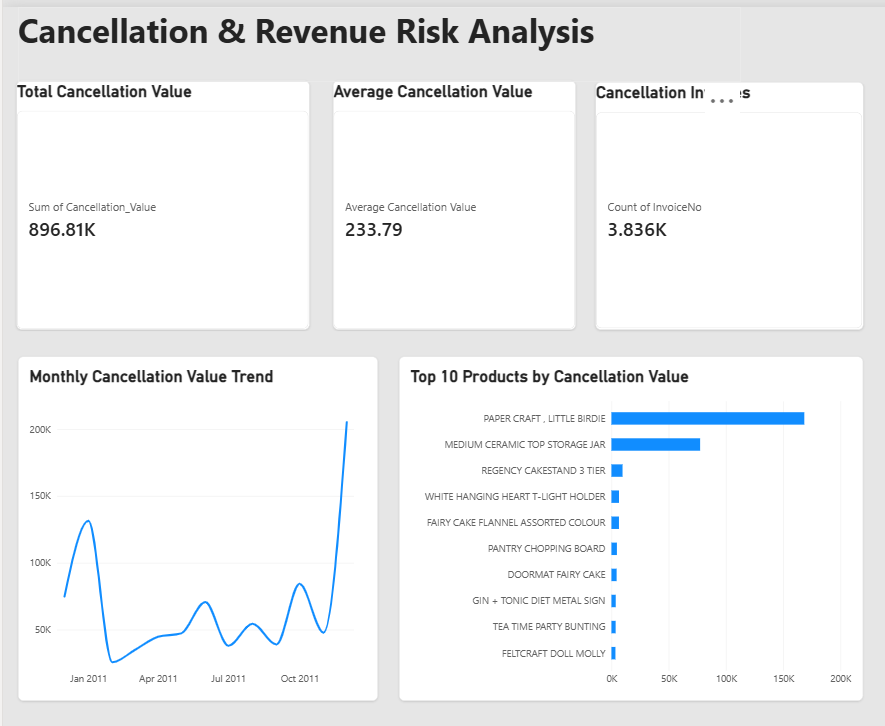

The page's visual inventory and layout, read from the dashboard file:
{"tool":"powerbi","page":{"name":"Cancellation Analysis","canvas":[1920,1080],"ordinal":1},"visuals":[{"type":"cardVisual","title":"Total Cancellation Value","fields":{"Data":["Sum(cancellations.Cancellation_Value)"]},"box":[20.4,106.8,427,363.4],"z":0},{"type":"cardVisual","title":"Cancellation Invoices","fields":{"Data":["Count(cancellations.InvoiceNo)"]},"box":[863.1,109,390.7,361.1],"z":1000},{"type":"lineChart","title":"Monthly Cancellation Value Trend","fields":{"Category":["cancellations.YearMonth.Variation.Date Hierarchy.Year","cancellations.YearMonth.Variation.Date Hierarchy.Quarter","cancellations.YearMonth.Variation.Date Hierarchy.Month","cancellations.YearMonth.Variation.Date Hierarchy.Day"],"Y":["Sum(cancellations.Cancellation_Value)"]},"box":[22.7,508.8,524.7,502],"z":2000},{"type":"clusteredBarChart","title":"Top 10 Products by Cancellation Value","fields":{"Category":["cancellations.Description"],"Y":["Sum(cancellations.Cancellation_Value)"]},"box":[576.9,508.8,676.8,502],"z":3000},{"type":"cardVisual","title":"Average Cancellation Value","fields":{"Data":["Average Order Value.Average Cancellation Value"]},"box":[481.5,106.8,354.3,363.4],"z":4000},{"type":"textbox","box":[1128,0,252,290],"z":5000},{"type":"textbox","box":[1404,0,252,290],"z":6000},{"type":"textbox","box":[1666,0,252,290],"z":7000},{"type":"textbox","box":[21.7,0,1053.3,108.3],"z":8000}]}

Visuals, with their boxes on the page's 1920x1080 design canvas (x1, y1, x2, y2). These are canvas units, not pixel positions in the 885x726 screenshot, which may show the page scaled, cropped or inside an application window:
"Total Cancellation Value" cardVisual: {"x1": 20, "y1": 107, "x2": 447, "y2": 470}
"Cancellation Invoices" cardVisual: {"x1": 863, "y1": 109, "x2": 1254, "y2": 470}
"Monthly Cancellation Value Trend" lineChart: {"x1": 23, "y1": 509, "x2": 547, "y2": 1011}
"Top 10 Products by Cancellation Value" clusteredBarChart: {"x1": 577, "y1": 509, "x2": 1254, "y2": 1011}
"Average Cancellation Value" cardVisual: {"x1": 482, "y1": 107, "x2": 836, "y2": 470}
textbox: {"x1": 1128, "y1": 0, "x2": 1380, "y2": 290}
textbox: {"x1": 1404, "y1": 0, "x2": 1656, "y2": 290}
textbox: {"x1": 1666, "y1": 0, "x2": 1918, "y2": 290}
textbox: {"x1": 22, "y1": 0, "x2": 1075, "y2": 108}
